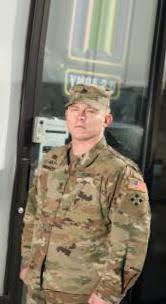uniform: (18, 81, 149, 294)
